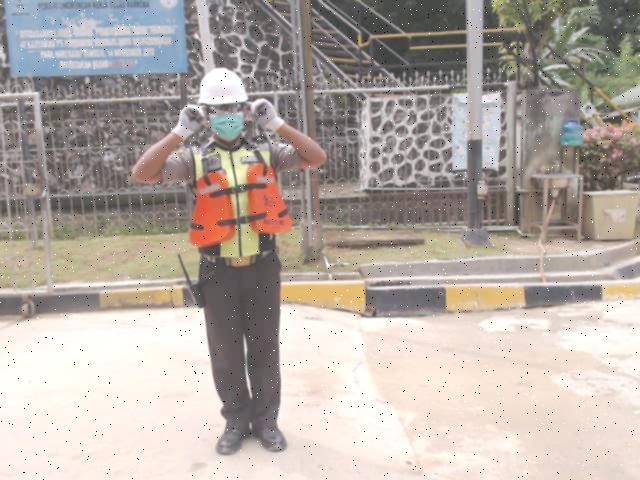glasses: (206, 101, 246, 114)
gloves: (248, 96, 286, 133), (172, 99, 208, 138)
helmet: (194, 67, 252, 107)
mask: (206, 111, 248, 141)
vest: (188, 161, 295, 247), (248, 407, 294, 453), (216, 406, 251, 456)
